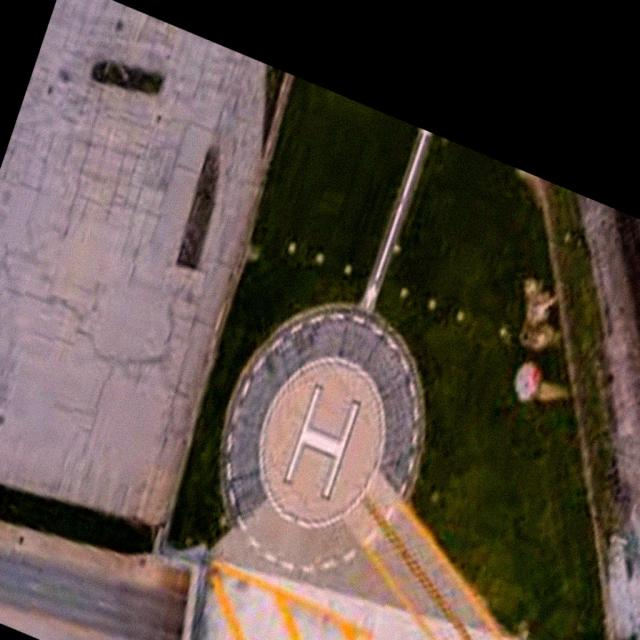helipad: (253, 350, 388, 529)
